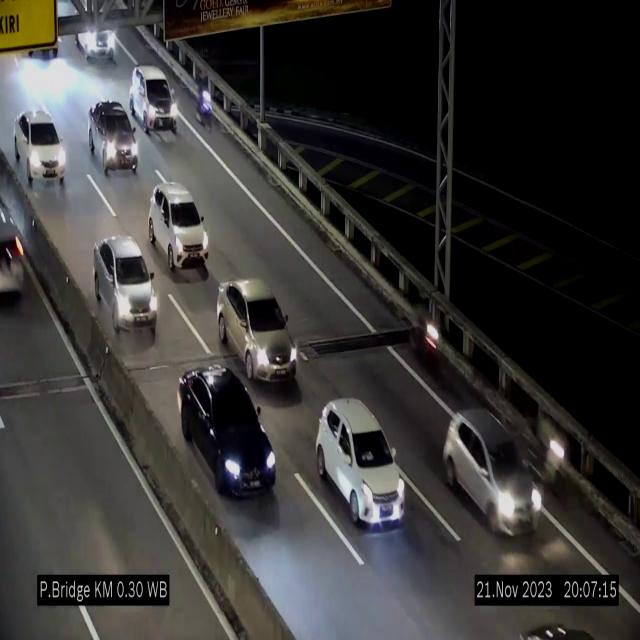Car: (441, 397, 545, 543), (179, 364, 277, 494), (316, 399, 406, 525), (217, 278, 299, 384), (94, 236, 158, 337), (149, 183, 209, 277), (84, 97, 142, 173), (13, 106, 68, 186), (128, 65, 176, 132), (0, 202, 30, 308), (71, 19, 119, 72)
Motorcycle: (533, 409, 570, 501), (411, 298, 438, 373), (193, 71, 216, 128)
